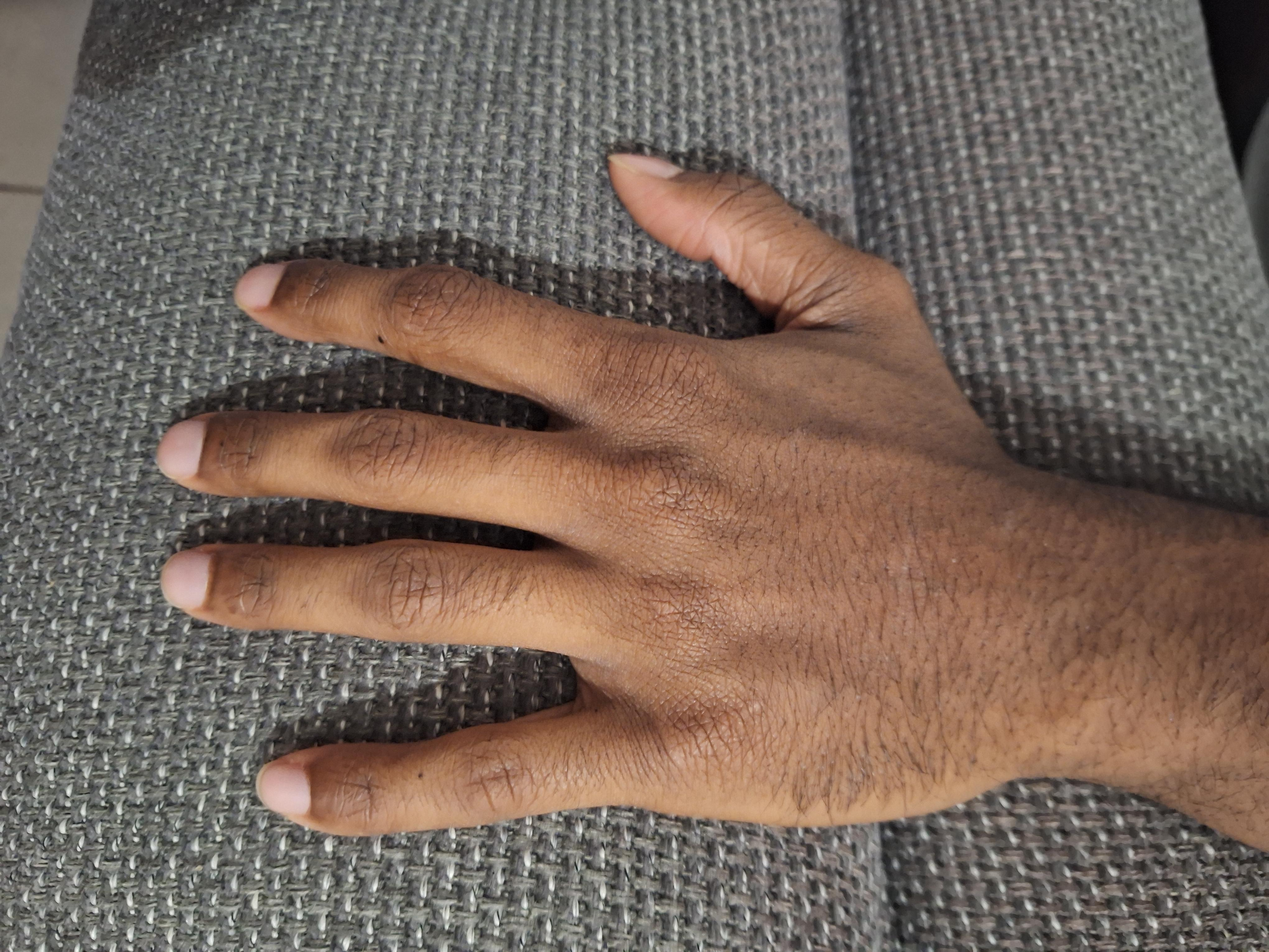Fingernail: (154, 421, 206, 480), (256, 762, 311, 816), (161, 551, 212, 609), (233, 264, 284, 309), (608, 153, 684, 179)
